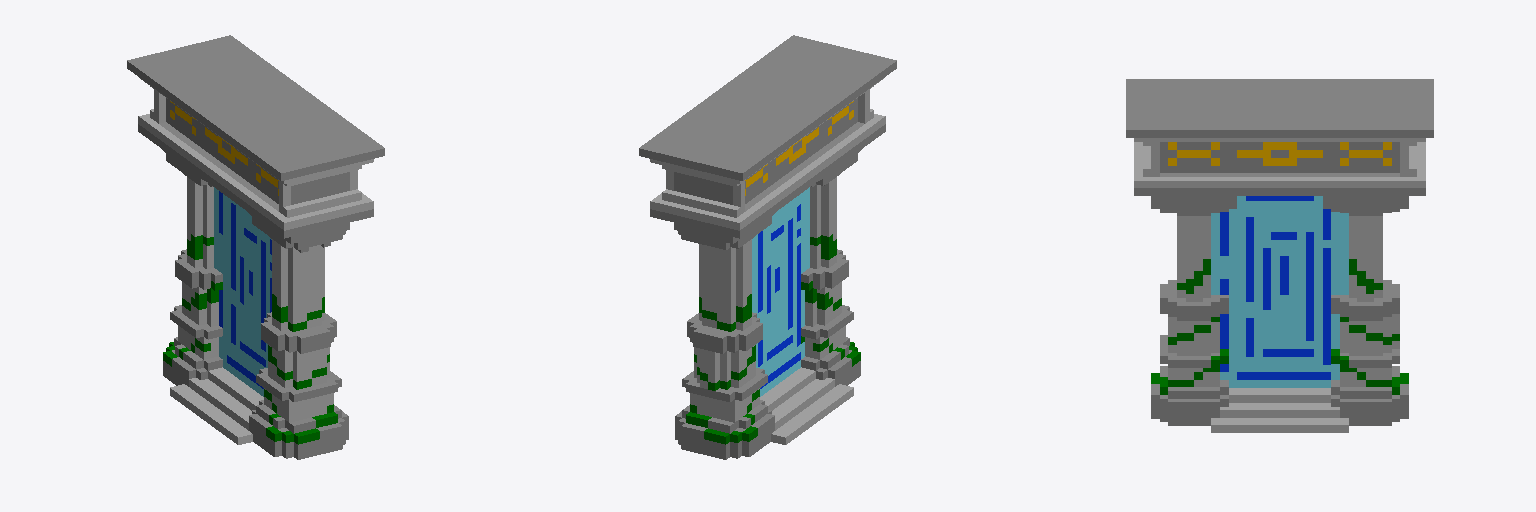
The picture shows the model from 3 angles: view 1: azimuth 30°, elevation 25°; view 2: azimuth 150°, elevation 25°; view 3: azimuth 270°, elevation 25°; orthographic projection.
Visible parts, largest first — view 1: object 1; view 2: object 1; view 3: object 1.
Part boxes in pixels (bbox=[...]): object 1: bbox=[127, 35, 384, 459]; object 1: bbox=[639, 35, 896, 459]; object 1: bbox=[1126, 79, 1433, 432].
Bounding box in the file's own units: 1.4 × 3.9 × 3.6.
Materials: 1 (1 with a texture image).